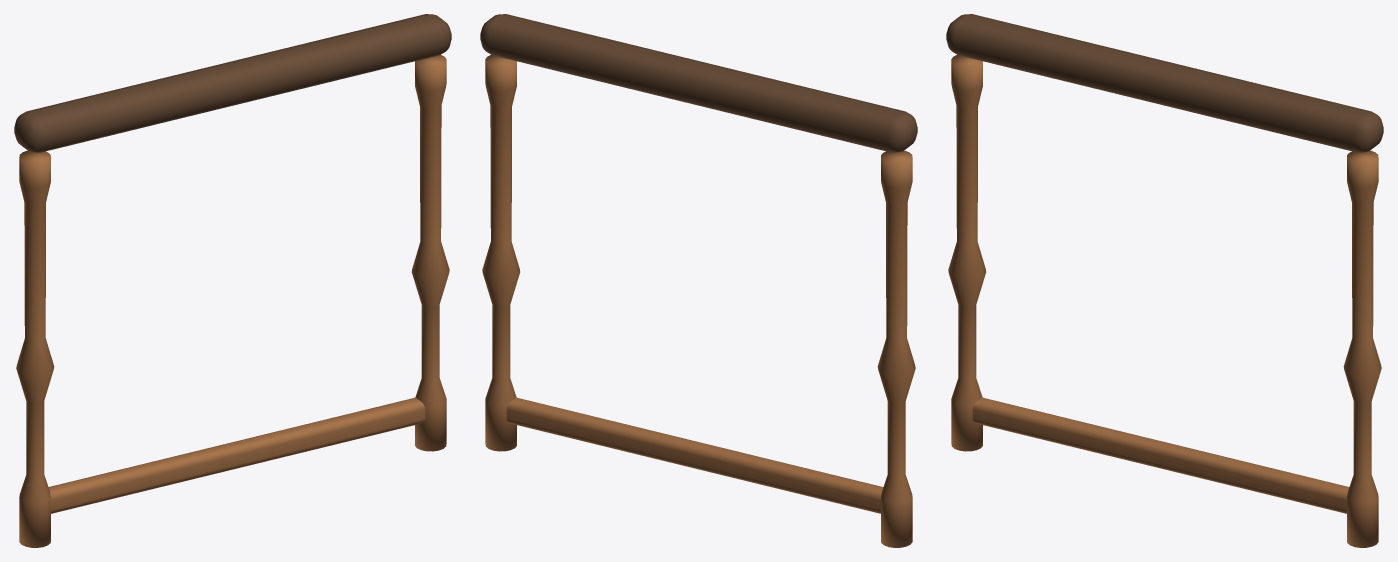
The model's file is railing.glb.
The picture shows the model from 3 angles, left to right: view 1: azimuth 30°, elevation 25°; view 2: azimuth 150°, elevation 25°; view 3: azimuth 330°, elevation 25°; orthographic projection.
Visible parts, largest first — view 1: House07_railing; view 2: House07_railing; view 3: House07_railing.
Part boxes in pixels (x1,y1,x2,y2): House07_railing: (14,14,451,547); House07_railing: (480,14,917,547); House07_railing: (946,14,1383,547).
Bounding box in the file's own units: 1.08 × 1.03 × 0.095.
